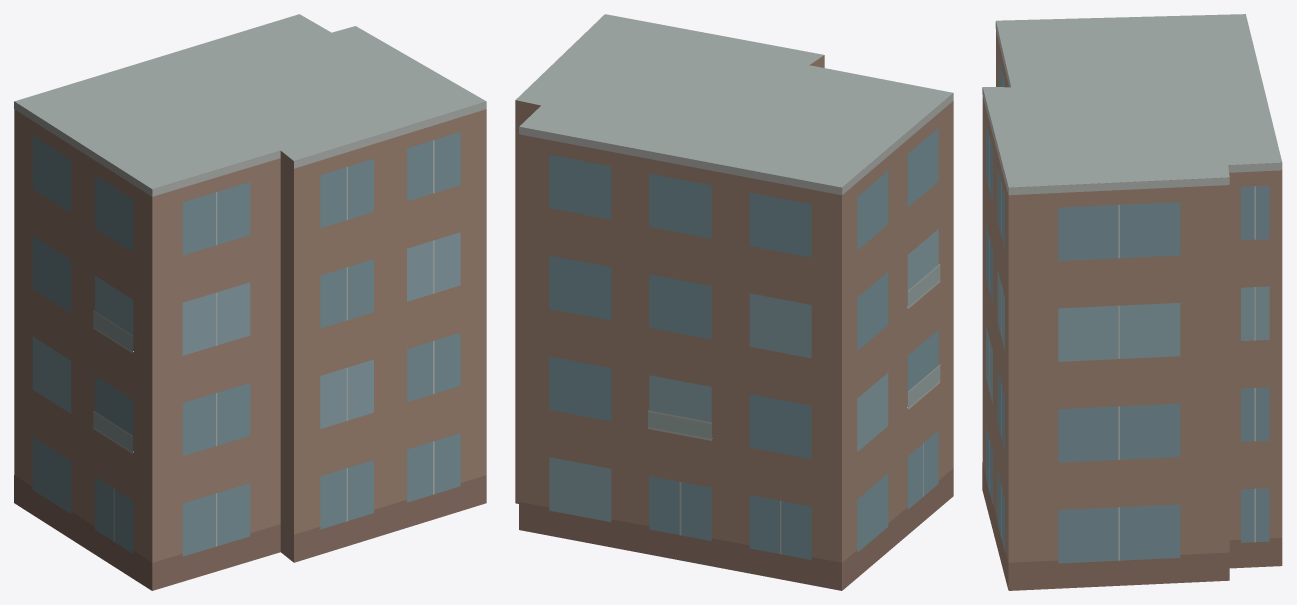
Rendered from survey-upis-33029906.glb.
The picture shows the model from 3 angles, left to right: view 1: azimuth 30°, elevation 25°; view 2: azimuth 150°, elevation 25°; view 3: azimuth 270°, elevation 25°; orthographic projection.
Visible parts, largest first — view 1: survey-upis-33029906.tmp; view 2: survey-upis-33029906.tmp; view 3: survey-upis-33029906.tmp.
Boxes of the visible parts, x1,y1,x2,y2 form: survey-upis-33029906.tmp: (14, 14, 486, 590); survey-upis-33029906.tmp: (515, 14, 953, 590); survey-upis-33029906.tmp: (982, 14, 1282, 590).
Size of the model in its own units: 11.83 by 12.8 by 8.64.
